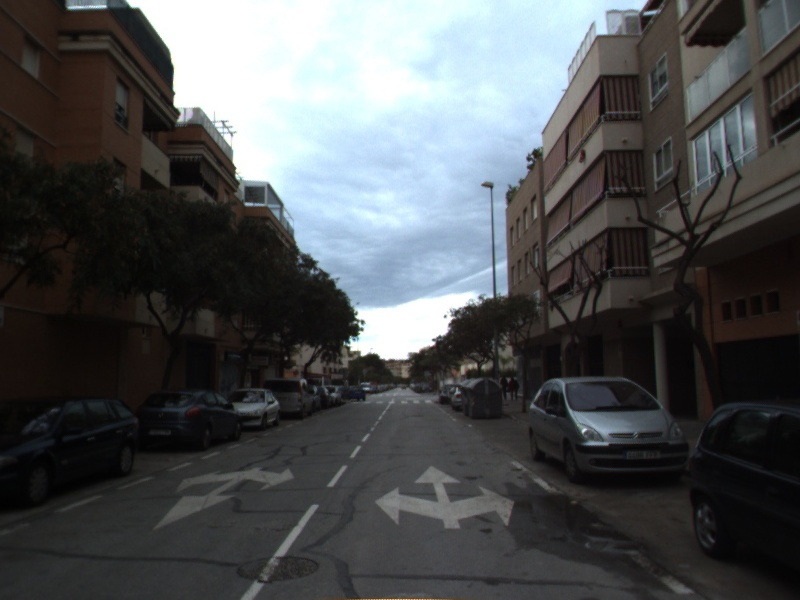STRAIGHT_LEFT_RIGHT: (372, 463, 517, 531)
